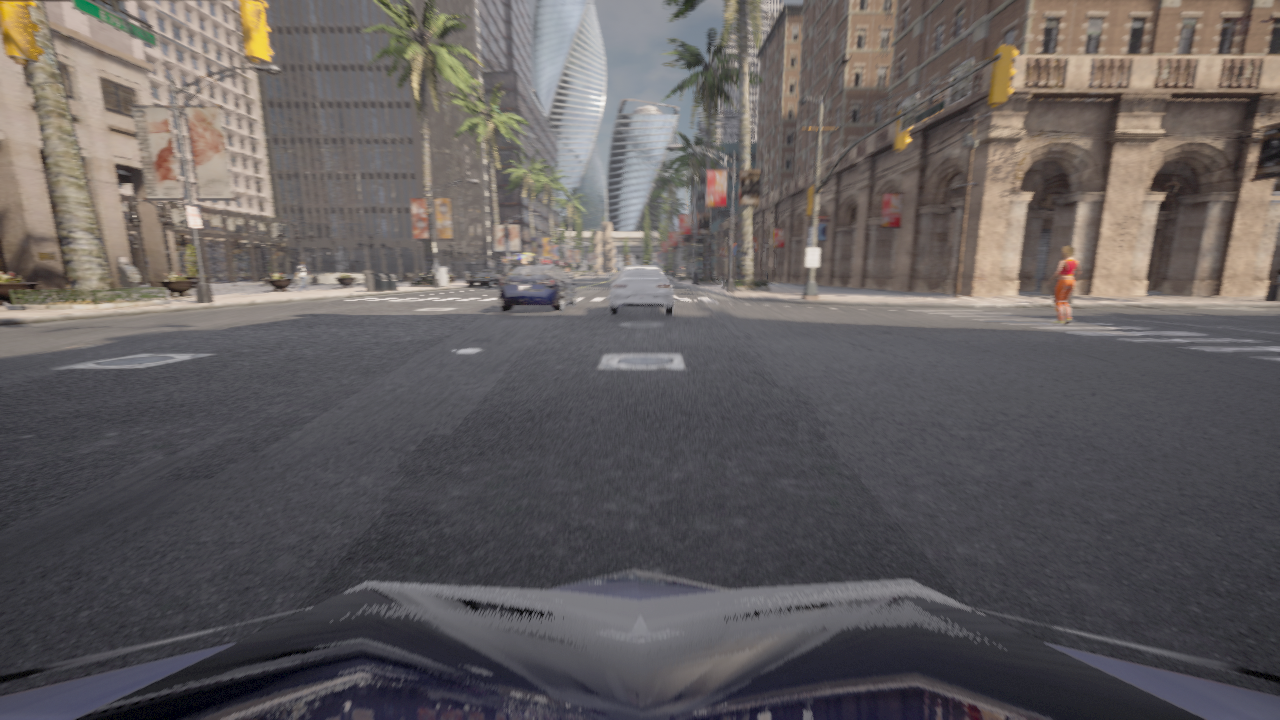cyclist: (0, 569, 1279, 719), (498, 265, 576, 311), (606, 265, 677, 314), (467, 270, 501, 287), (565, 272, 574, 279)
pedestrian: (1046, 246, 1080, 324), (296, 260, 311, 292)
